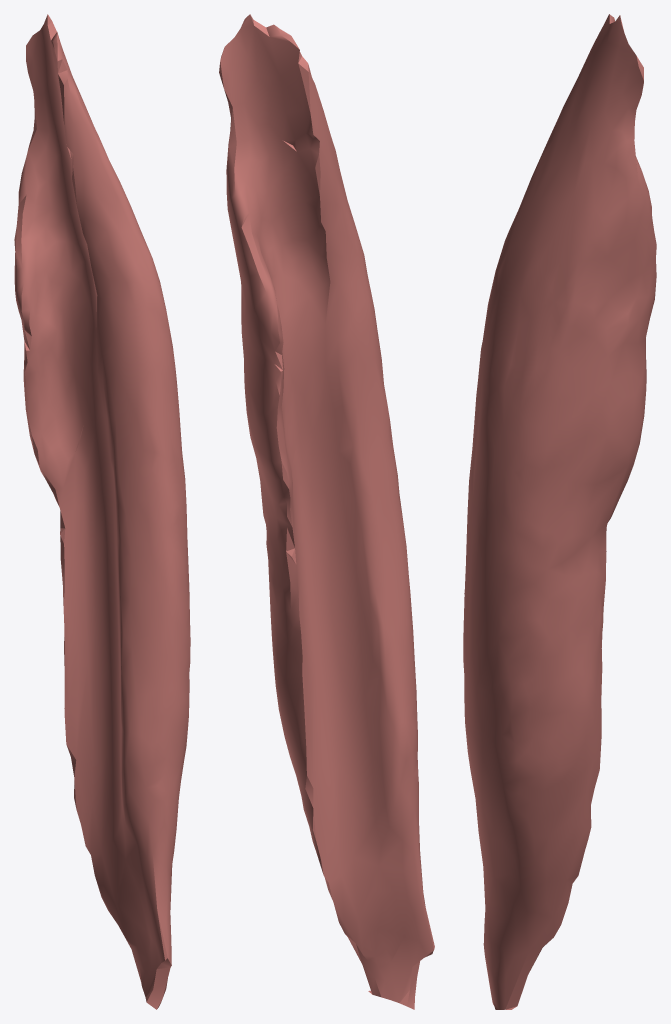
The model's file is fma38935_mm1680.glb.
3 views of the same model, side by side, from view 1: azimuth 90°, elevation 25°; view 2: azimuth 150°, elevation 25°; view 3: azimuth 270°, elevation 25° (orthographic). The views are drawn at different scales.
Visible parts, largest first — view 1: FMA38935_MM1680; view 2: FMA38935_MM1680; view 3: FMA38935_MM1680.
Part boxes in pixels (x1,y1,x2,y2): FMA38935_MM1680: (14,14,190,1009); FMA38935_MM1680: (219,14,434,1009); FMA38935_MM1680: (463,14,656,1009).
Bounding box in the file's own units: 0.0556 × 0.3601 × 0.0607.
